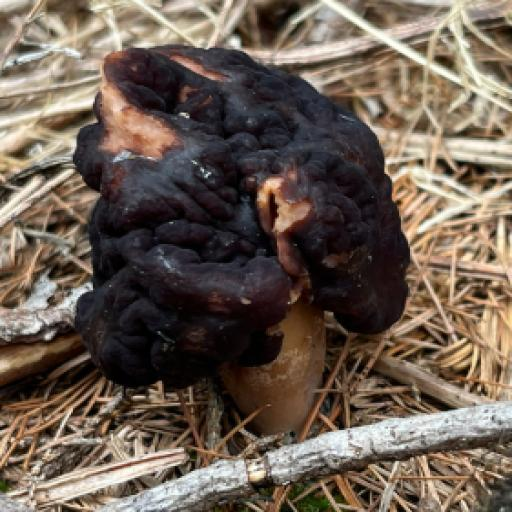mushroom: (63, 33, 423, 415)
